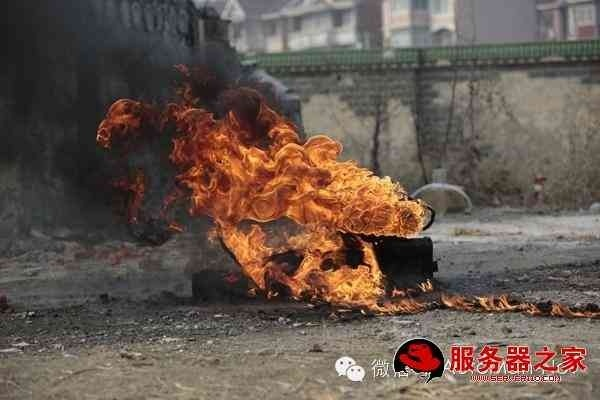fire: (90, 62, 429, 319)
